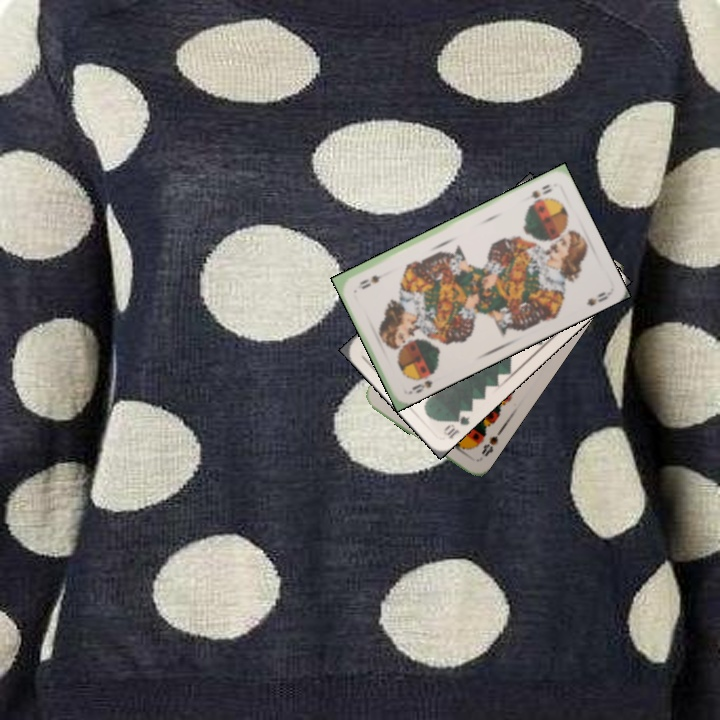G10: (440, 406, 472, 442)
S8: (477, 428, 504, 459)
SO: (404, 366, 438, 397), (527, 180, 554, 201)
